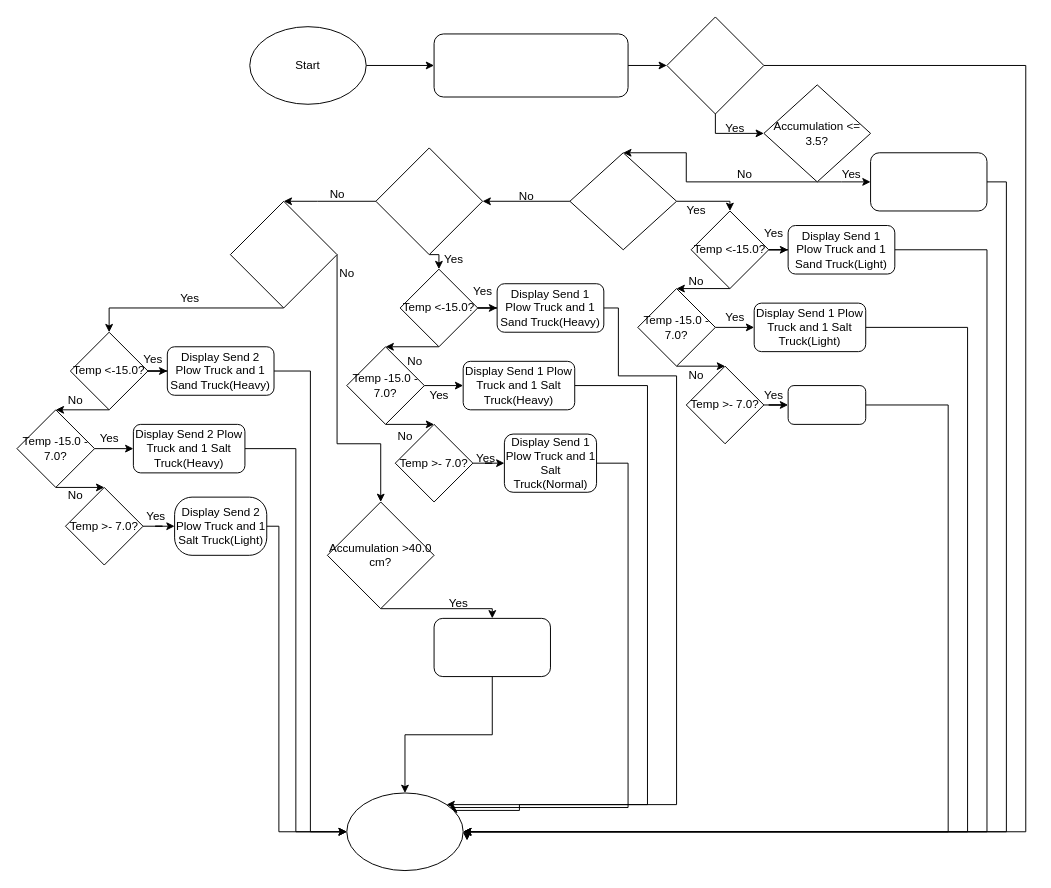
The diagram is 1051 pixels wide and 888 high, and some of its shapes have lost their labels. The centre of each missing label's shape, as x and y in pixels:
"Accumulation > -16.5 - 40.0 cm?" belongs at point (283, 254).
"Accumulation >3.5 - 5.75 cm?" belongs at point (623, 201).
"Accumulation >5.75- 16.5 cm?" belongs at point (429, 201).
"Display No Action Required" belongs at point (928, 181).
"Display Send 1 Plow Truck" belongs at point (826, 404).
"Display State of Emergency (Organize Army and Other Jurisdiction Support)" belongs at point (491, 647).
"Exit" belongs at point (404, 831).
"Input Type of Weather, Accumulation Amount and Temperature" belongs at point (530, 65).
"Is Weather Mixed?" belongs at point (715, 65).
